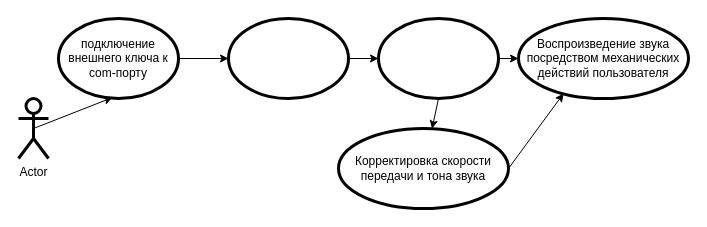
Some shapes in this 707 by 227 pixel diagram are drawn without their labels. Here are the shapes that lost their labels. From the top down, the box of each, then its label:
(226, 16, 350, 100): Выбор соответствующего com порта
(376, 16, 500, 100): Нажатие соответствующего переключателя
